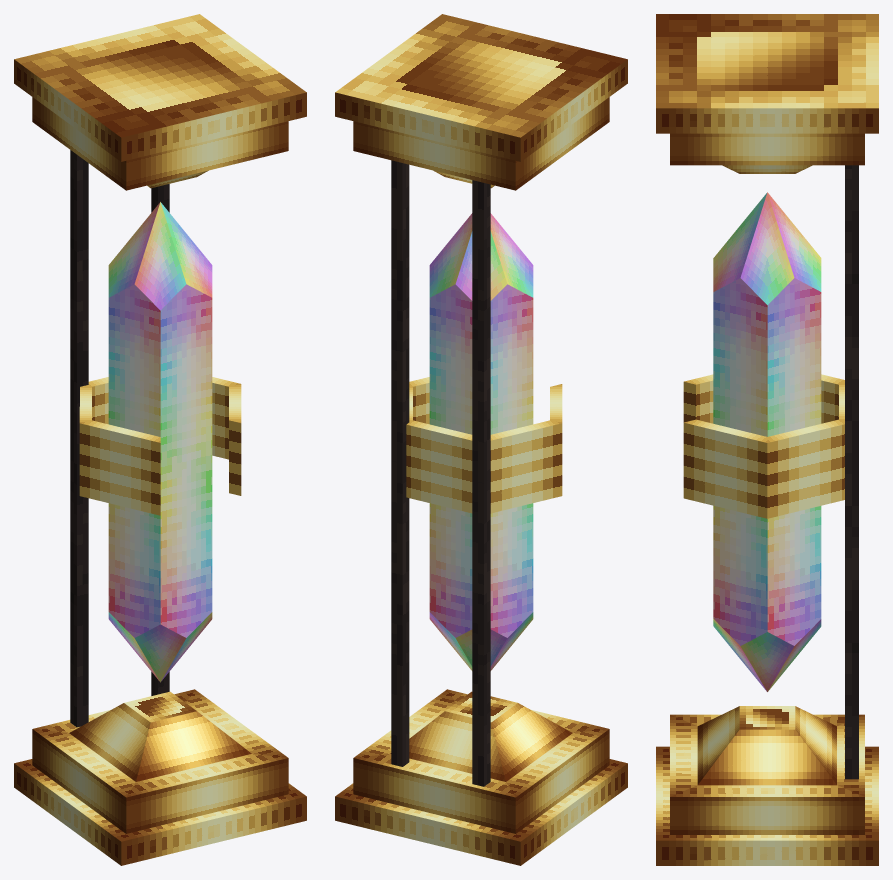
The model's file is matrix_storage.obj.
3 views of the same model, side by side, from view 1: azimuth 30°, elevation 25°; view 2: azimuth 150°, elevation 25°; view 3: azimuth 270°, elevation 25° (orthographic). The views are drawn at different scales.
Visible parts, largest first — view 1: Base, Crystal, Struts, Reader; view 2: Base, Crystal, Struts, Reader; view 3: Base, Crystal, Reader, Struts.
Boxes of the visible parts, bbox=[...] form: Base: bbox=[14, 14, 306, 865]; Crystal: bbox=[108, 202, 212, 682]; Struts: bbox=[70, 150, 169, 727]; Reader: bbox=[79, 377, 241, 515]; Base: bbox=[335, 14, 627, 865]; Crystal: bbox=[429, 213, 533, 670]; Struts: bbox=[391, 160, 490, 786]; Reader: bbox=[406, 377, 562, 513]; Base: bbox=[656, 14, 878, 865]; Crystal: bbox=[713, 192, 821, 691]; Reader: bbox=[683, 374, 844, 518]; Struts: bbox=[845, 165, 858, 779].
Size of the model in its own units: 0.7874 by 2.95 by 0.7874.
